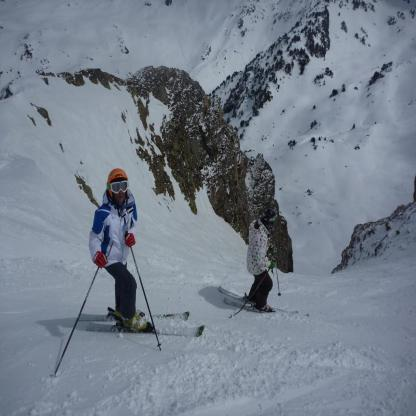Helmet: (106, 167, 132, 208), (254, 211, 279, 235)
